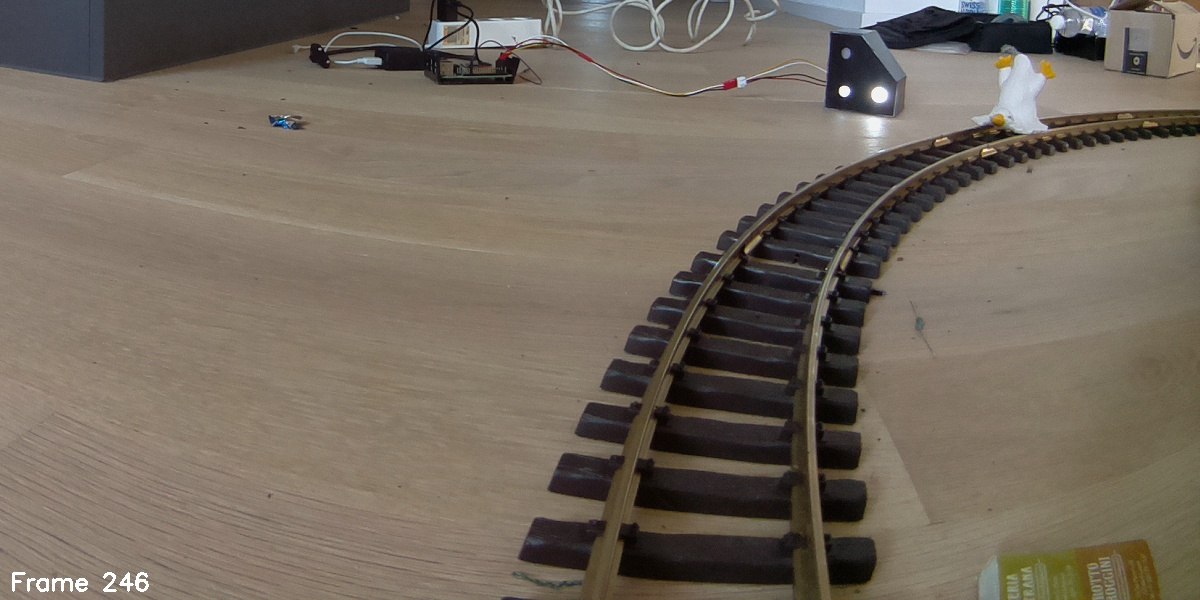Ente: (971, 52, 1056, 141)
Halt: (827, 27, 904, 115)
